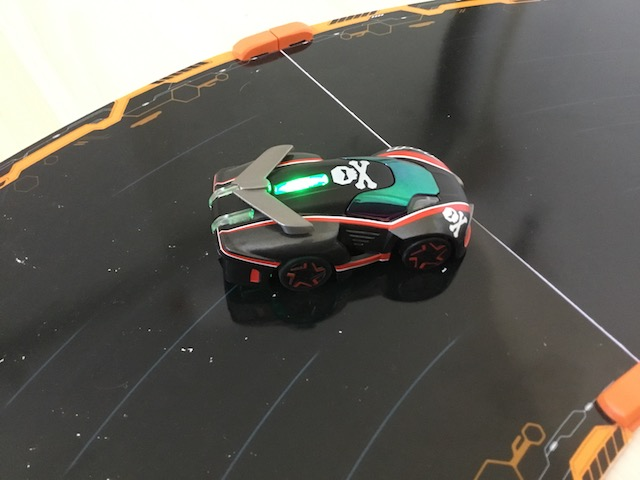car-red: (206, 138, 476, 301)
